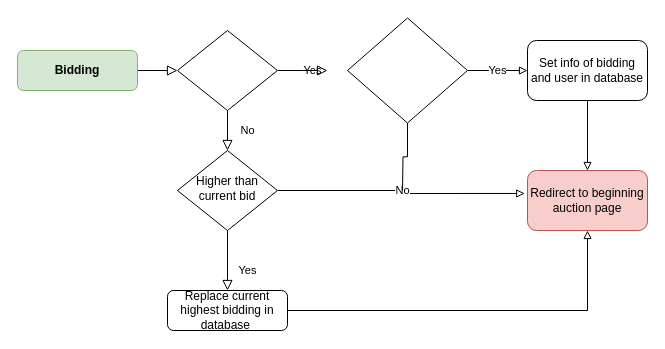
Some shapes in this 665 by 349 pixel diagram are drawn without their labels. Each missing label, with the box of its shape:
First bid: (176, 30, 278, 110)
Higher than starting bid: (346, 17, 468, 123)
